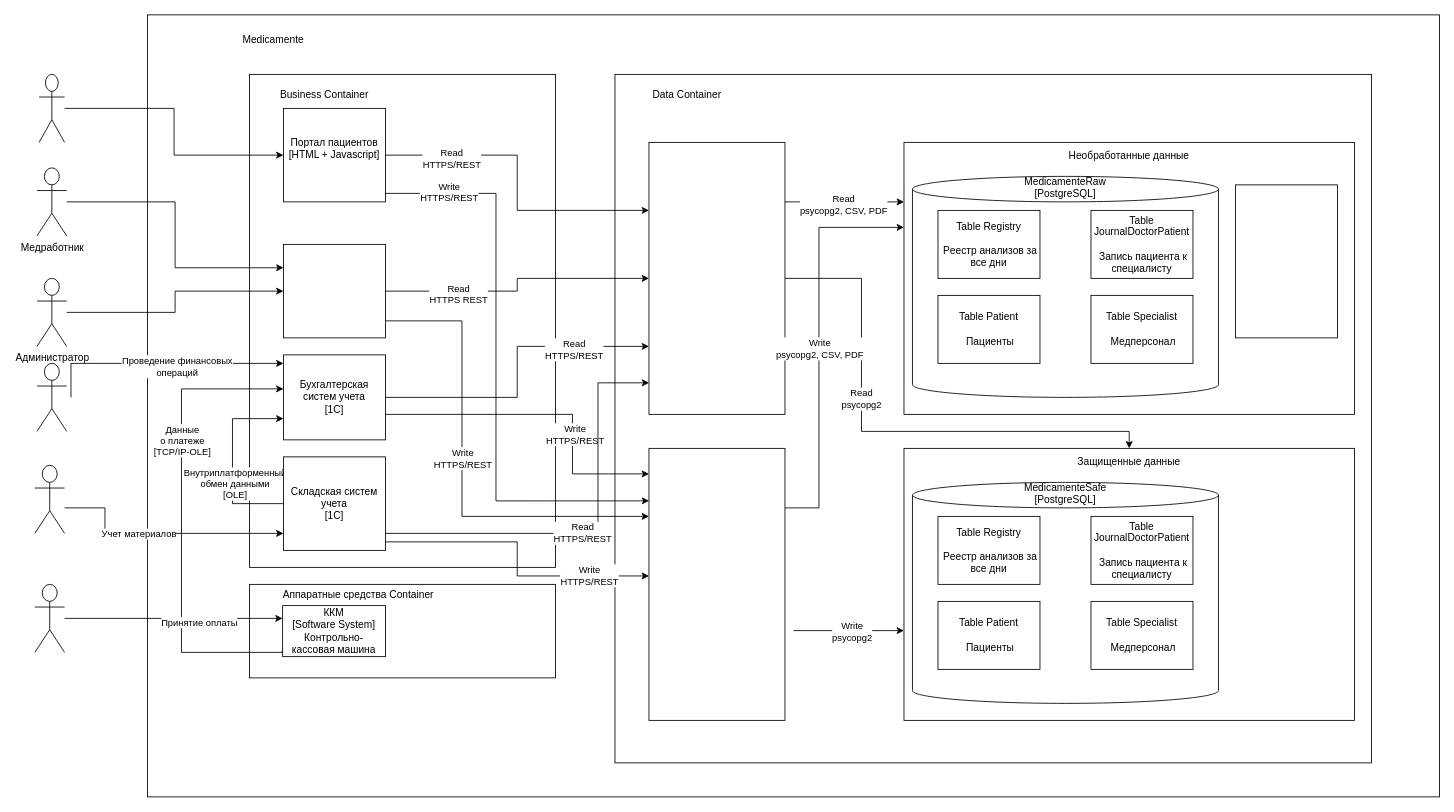
This 1454x812 diagram has some shape labels left out. Here are the shapes that lost their labels. From the top down, the centre of each, then its label:
At (x=51, y=108): "Пациент".
At (x=716, y=278): "Фасад чтения данных [Python, FastAPI]".
At (x=1286, y=261): "Patient File Storage [Any file] Файлы пациентов в разных форматах".
At (x=334, y=291): "Портал сотрудников [HTML + Javascript]".
At (x=51, y=397): "Бухгалтер".
At (x=49, y=499): "Кладовщик".
At (x=716, y=584): "Фасад записи и защиты данных [ Python, FastAPI]".
At (x=49, y=618): "Кассир".
